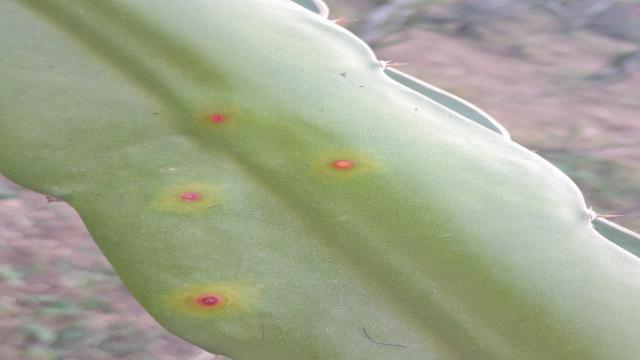stemcanker: (162, 280, 254, 324), (308, 145, 383, 187), (177, 101, 245, 140), (151, 181, 223, 216)
